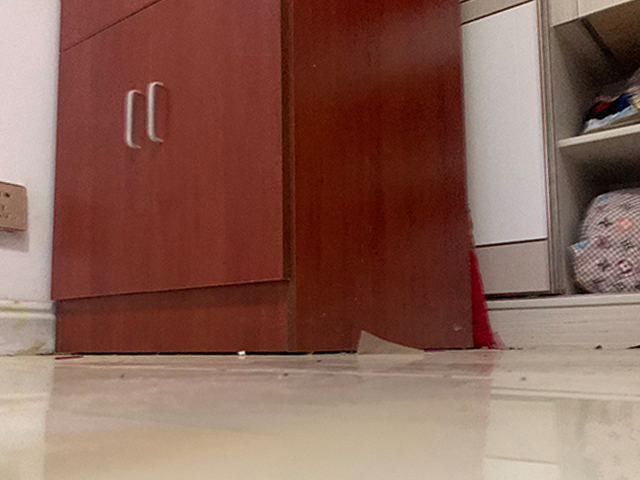cabinet: (49, 1, 473, 355), (461, 1, 640, 352)
